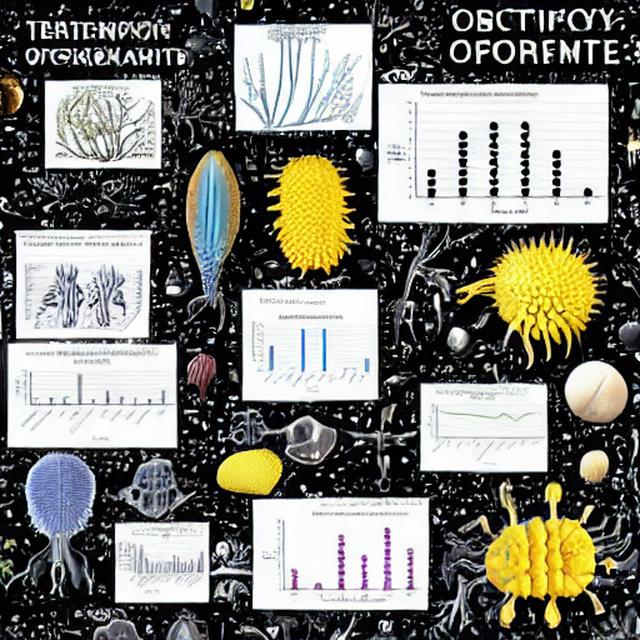Graph: (380, 87, 607, 219), (257, 508, 427, 606), (10, 347, 173, 444), (247, 312, 374, 396), (423, 388, 543, 466), (117, 528, 208, 594)
